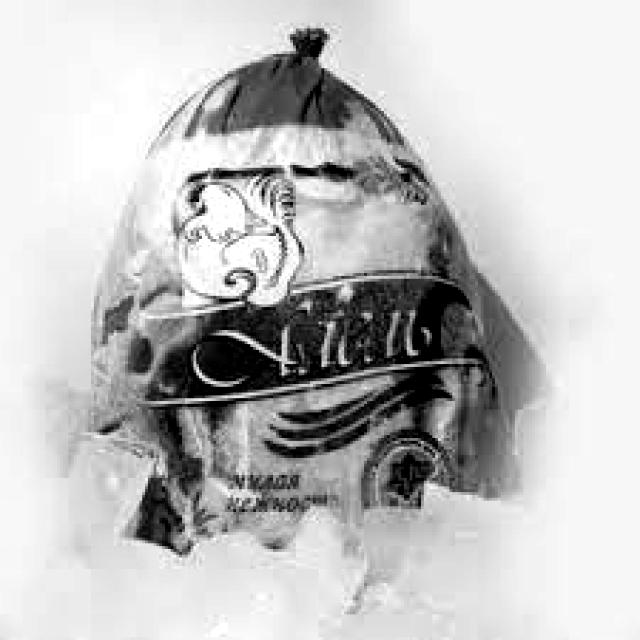alel: (133, 167, 491, 440)
